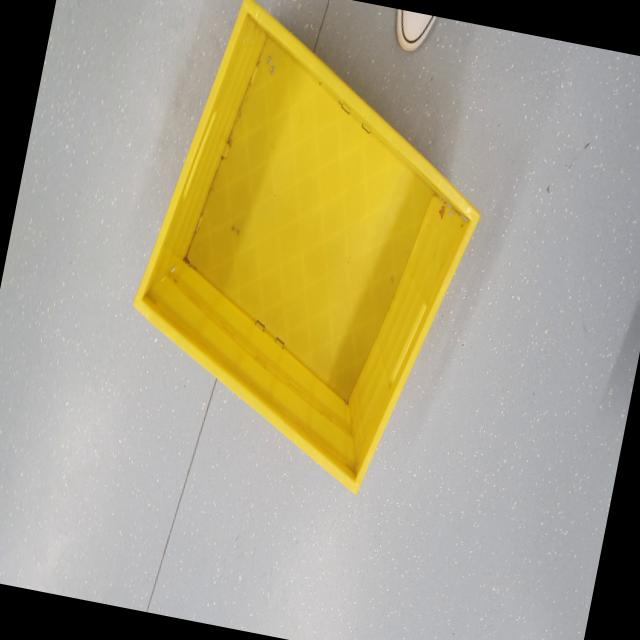box: (103, 0, 524, 514)
